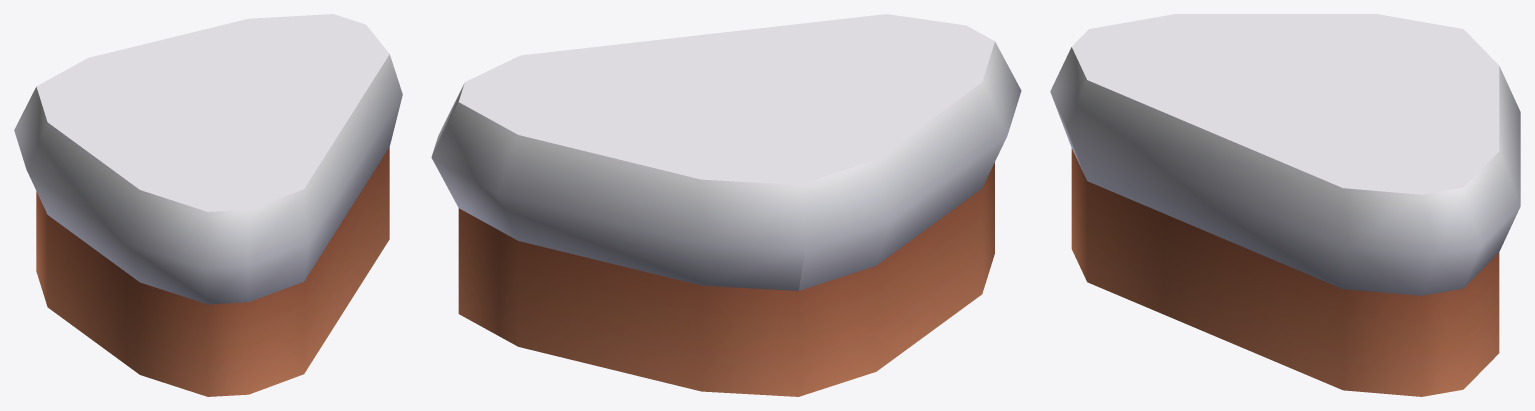
Rendered from kenney-platformer-block-snow-corner-low.glb.
3 renders of one model, left to right at view 1: azimuth 30°, elevation 25°; view 2: azimuth 150°, elevation 25°; view 3: azimuth 270°, elevation 25°, orthographic. The views are drawn at different scales.
Visible parts, largest first — view 1: block-snow-corner-low; view 2: block-snow-corner-low; view 3: block-snow-corner-low.
Part boxes in pixels (box(x1,y1,x2,y2)): block-snow-corner-low: box(14, 14, 402, 396); block-snow-corner-low: box(431, 14, 1021, 396); block-snow-corner-low: box(1050, 14, 1520, 396).
Bounding box in the file's own units: 1.05 × 0.5 × 1.05.
Materials: 1 (1 with a texture image).
